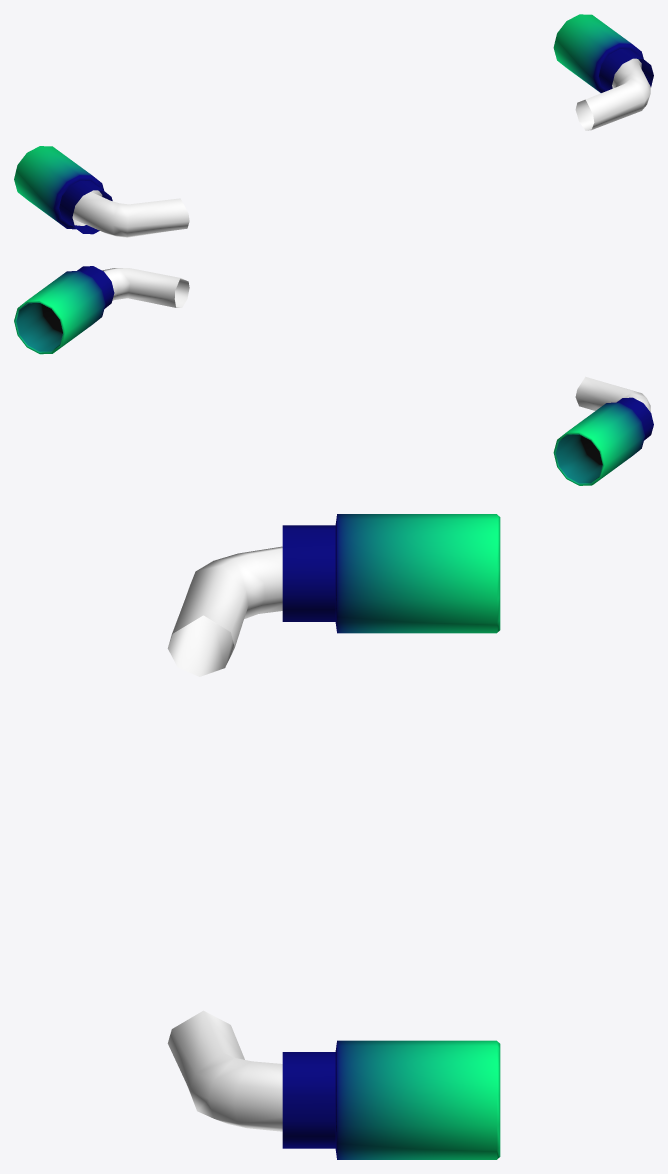
Rendered from Car_Mini_CountrymanJCW_2017_Exhausts_SetFK.fbx.
3 views of the same model, one above another, from view 1: azimuth 30°, elevation 25°; view 2: azimuth 150°, elevation 25°; view 3: azimuth 270°, elevation 25° (orthographic). The views are drawn at different scales.
Visible parts, largest first — view 1: Exhausts 6; view 2: Exhausts 6; view 3: Exhausts 6.
Part boxes in pixels (left/top/right/bottom): Exhausts 6: left=14, top=14, right=653, bottom=237; Exhausts 6: left=14, top=266, right=653, bottom=485; Exhausts 6: left=167, top=514, right=500, bottom=1159.
Size of the model in its own units: 1.17 by 0.1028 by 0.2858.
